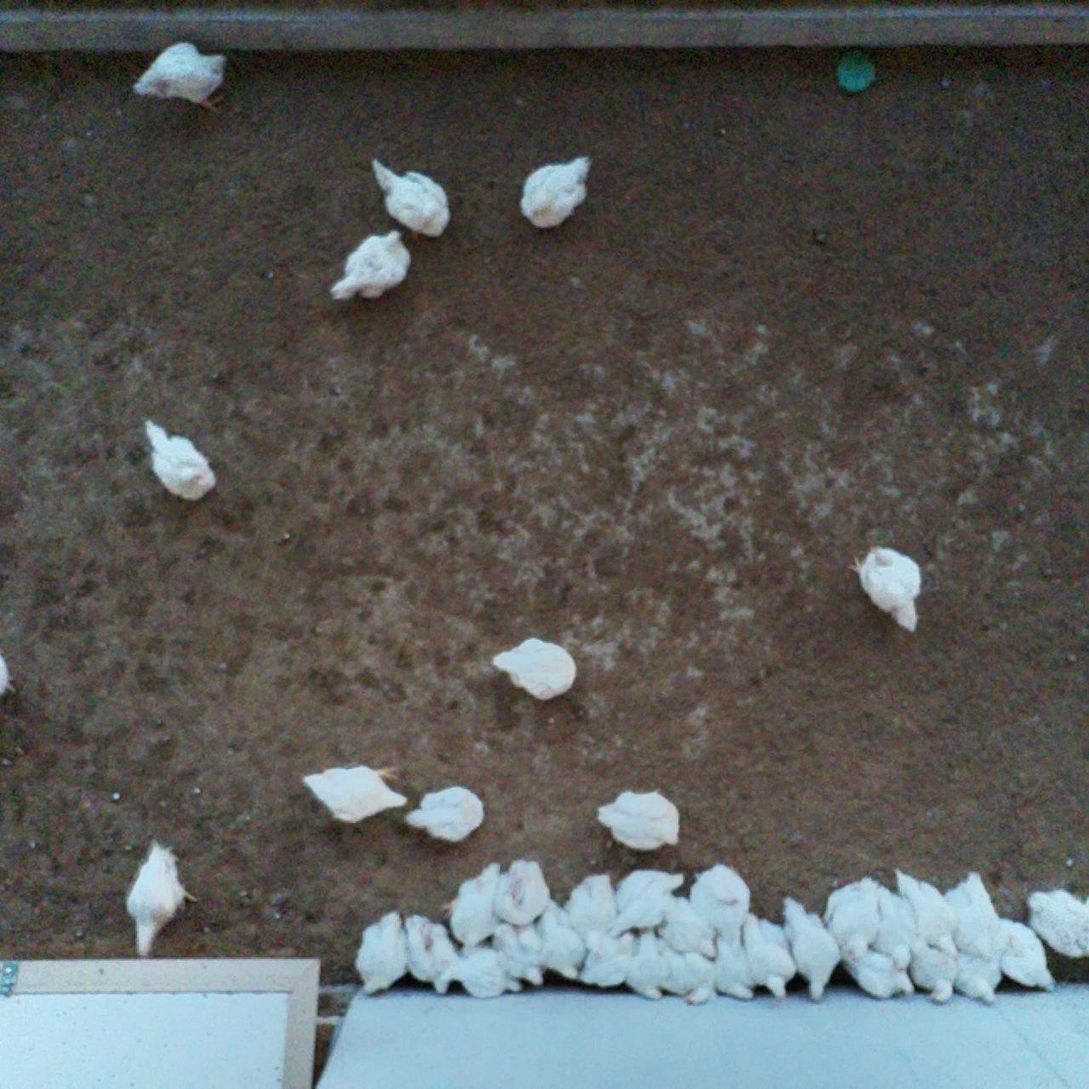chicken: (124, 834, 201, 962), (127, 38, 232, 113), (140, 415, 224, 505), (300, 756, 405, 828), (364, 156, 454, 239), (844, 540, 923, 633), (777, 898, 843, 1001), (487, 633, 577, 705), (328, 227, 413, 300), (516, 150, 593, 230), (735, 909, 801, 1001), (591, 787, 683, 852), (609, 866, 687, 941), (446, 862, 506, 957), (946, 866, 1002, 966), (1018, 883, 1089, 960), (895, 869, 959, 954), (826, 875, 888, 962), (987, 916, 1056, 994), (351, 907, 409, 998), (399, 907, 457, 998), (404, 781, 486, 845), (690, 862, 749, 949), (443, 944, 523, 1002), (564, 869, 618, 952), (939, 930, 1001, 1002), (701, 926, 758, 1003), (841, 942, 916, 1000), (535, 901, 588, 982), (904, 929, 960, 1004), (867, 887, 918, 966), (494, 857, 550, 928), (661, 894, 721, 959), (625, 924, 672, 1003), (580, 929, 639, 991), (656, 948, 716, 1005), (494, 921, 545, 987)
